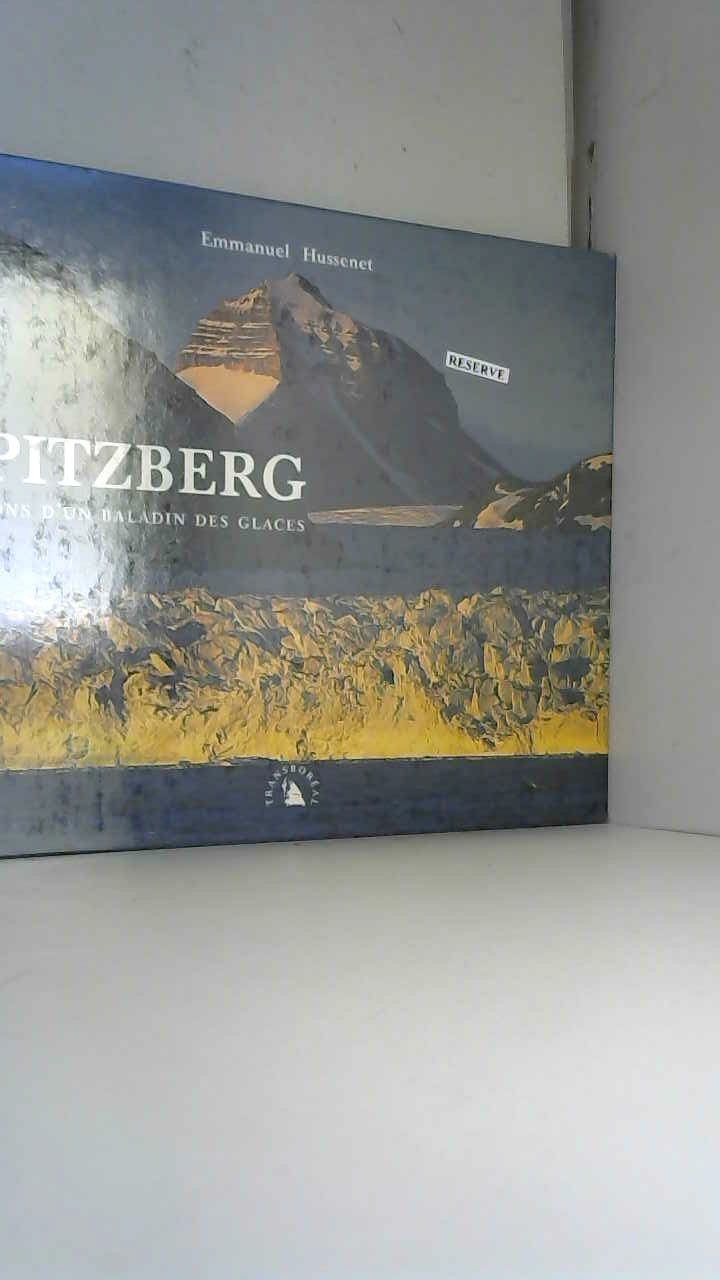book: (0, 145, 657, 871)
